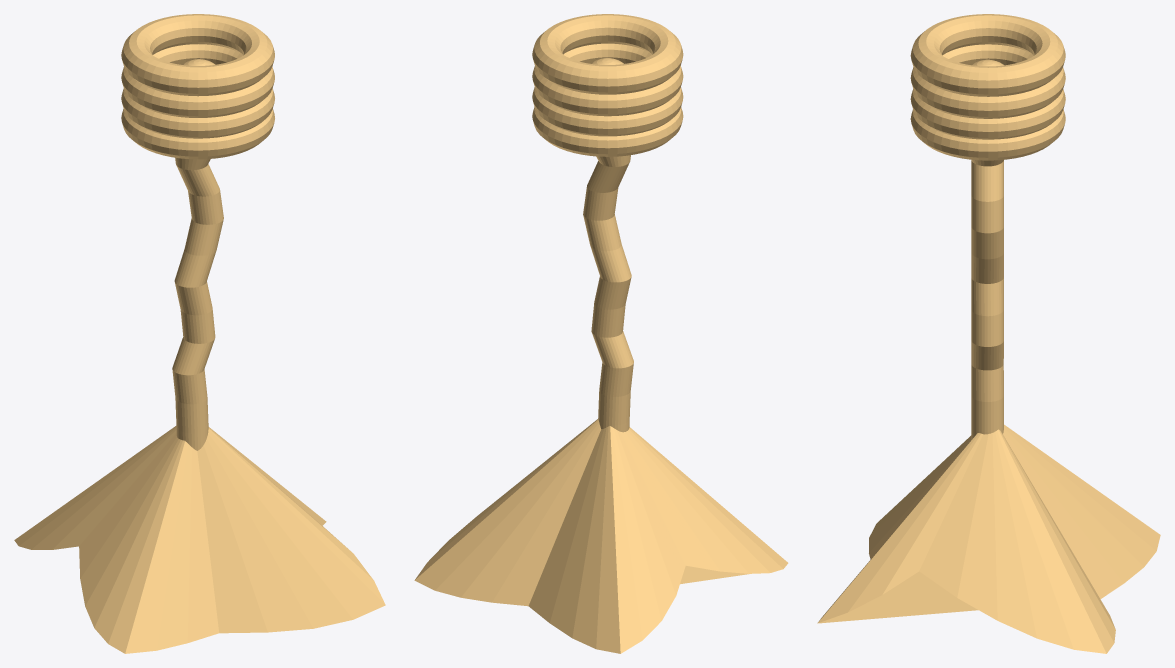
File: lampie.glb
The picture shows the model from 3 angles, left to right: view 1: azimuth 30°, elevation 25°; view 2: azimuth 150°, elevation 25°; view 3: azimuth 270°, elevation 25°; orthographic projection. The views are drawn at different scales.
Parts seen in each view (by area): view 1: Cone, Cylinder, Torus002, Torus001, Torus, Torus003; view 2: Cone, Cylinder, Torus002, Torus001, Torus, Torus003; view 3: Cone, Cylinder, Torus002, Torus001, Torus, Torus003.
Part boxes in pixels (box(x1,y1,x2,y2)): Cone: box(14, 426, 385, 653); Cylinder: box(172, 157, 223, 450); Torus002: box(121, 14, 274, 96); Torus001: box(121, 44, 274, 117); Torus: box(121, 88, 274, 138); Torus003: box(121, 108, 274, 159); Cone: box(414, 419, 788, 653); Cylinder: box(583, 155, 633, 432); Torus002: box(532, 14, 683, 94); Torus001: box(532, 43, 683, 116); Torus: box(532, 87, 683, 136); Torus003: box(532, 107, 683, 156); Cone: box(817, 424, 1160, 653); Cylinder: box(971, 159, 1003, 439); Torus002: box(910, 14, 1065, 96); Torus001: box(910, 44, 1065, 118); Torus: box(910, 89, 1065, 139); Torus003: box(910, 109, 1065, 160).
Size of the model in its own units: 1.86 by 3.49 by 1.99.
